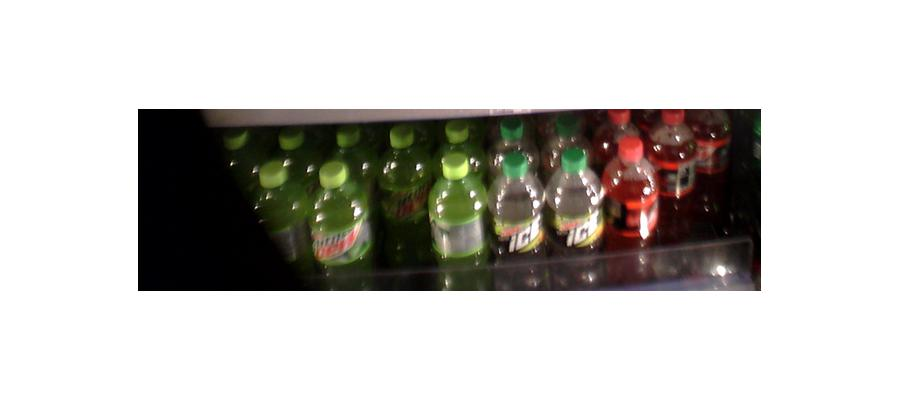bottle: (491, 137, 546, 287), (547, 140, 603, 287), (378, 125, 432, 268), (603, 129, 655, 277), (434, 151, 487, 290), (309, 157, 370, 275), (253, 155, 310, 270), (653, 105, 697, 253), (697, 101, 733, 241)
